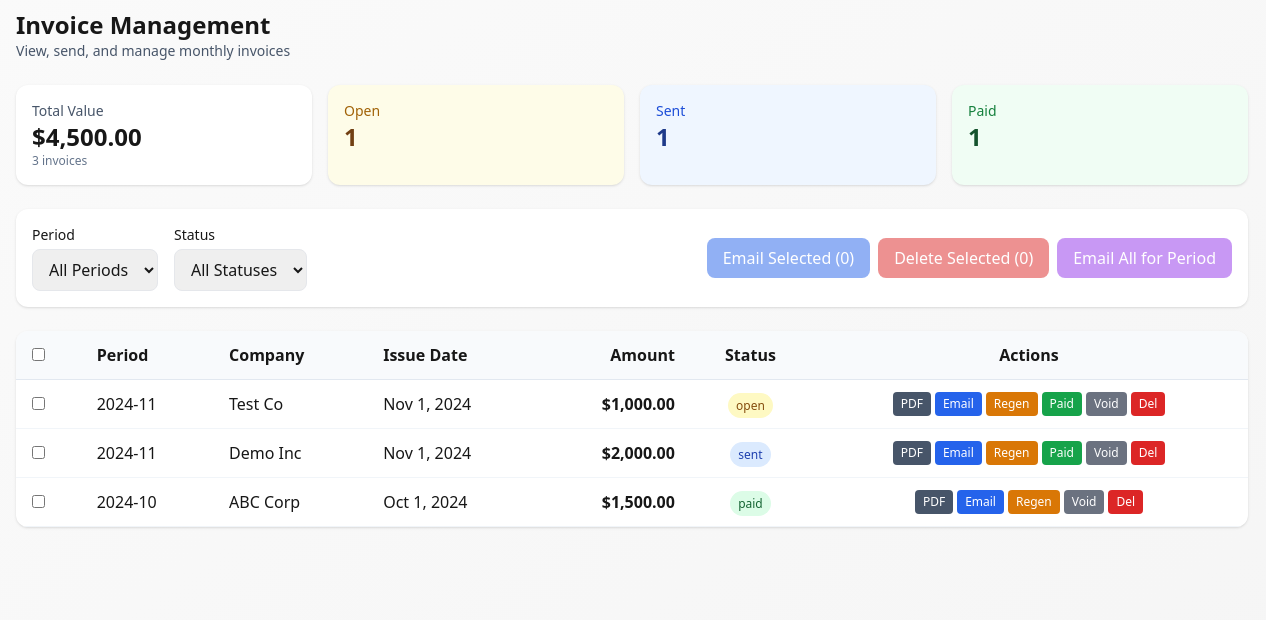
Test: InvoiceManager Component › Batch Email Operations › should display success message after batch email
Step 1. Click the checkbox in the row of "Test Co" → x=38, y=404, box [32,397,45,410]
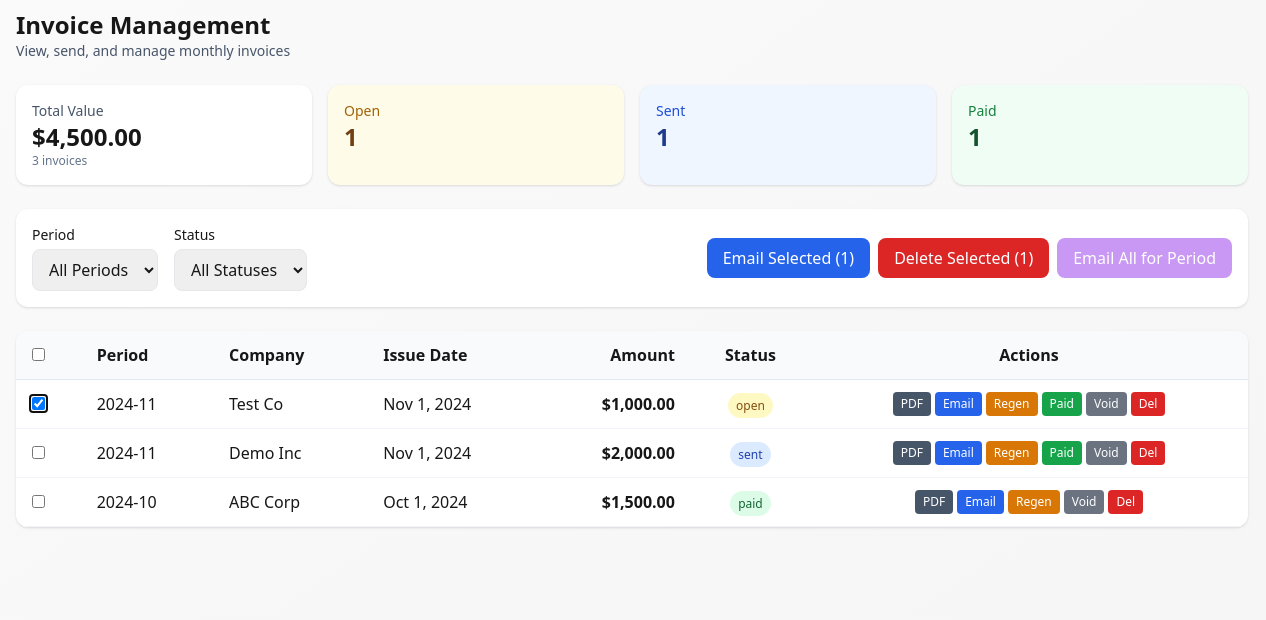
Step 2. Click the button "Email Selected (1)" → x=788, y=258, box [707,238,870,278]
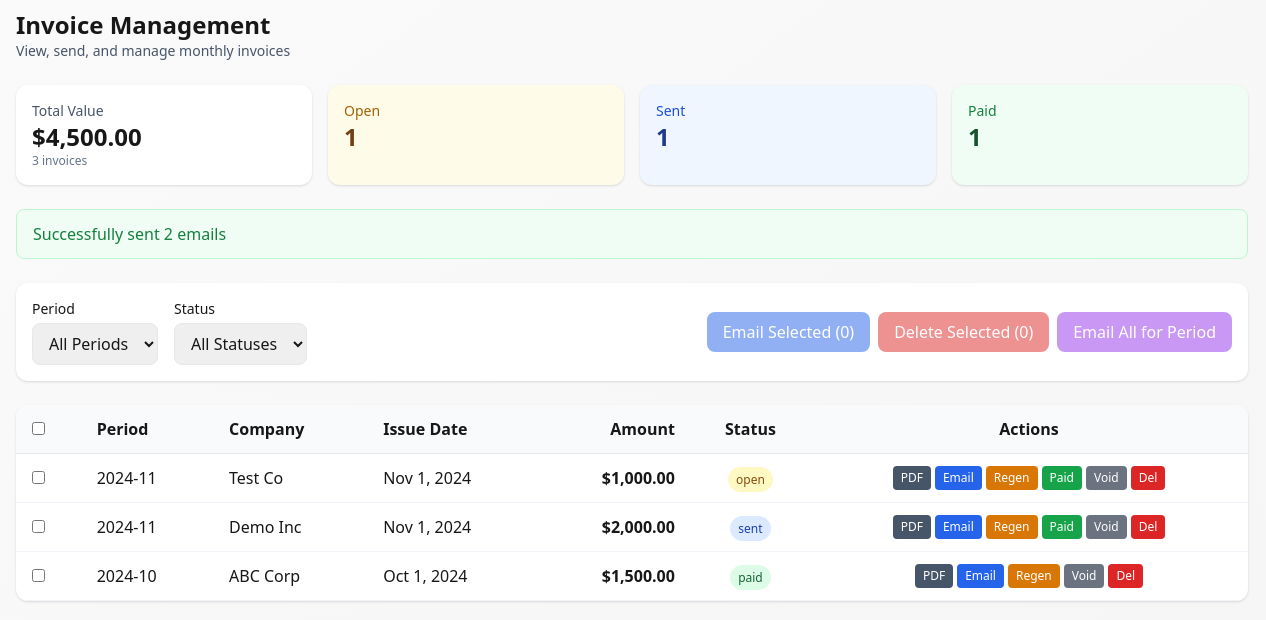
Expected: the text "Successfully sent 2 emails" is shown, [16,209,1248,259]
